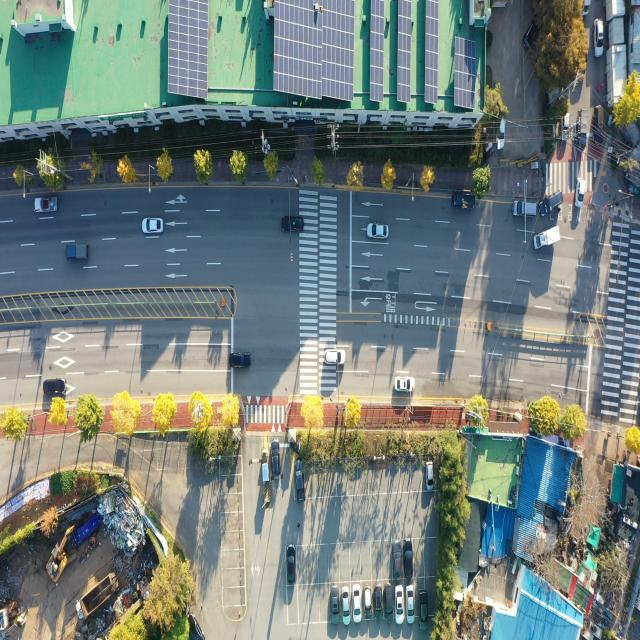car: (541, 194, 566, 219), (513, 198, 538, 220), (523, 18, 538, 50), (592, 105, 604, 143), (593, 16, 604, 56), (230, 351, 252, 370), (281, 216, 304, 234), (496, 113, 507, 150), (45, 377, 67, 394), (392, 540, 402, 577), (404, 538, 413, 578), (324, 349, 345, 366), (294, 464, 303, 502), (330, 587, 339, 625), (574, 176, 585, 207), (419, 589, 428, 626), (142, 218, 162, 234), (395, 584, 403, 624), (287, 546, 295, 584), (367, 223, 387, 238), (375, 585, 384, 618), (343, 587, 351, 624), (406, 588, 414, 624), (385, 585, 393, 621), (272, 442, 281, 474), (394, 378, 414, 392), (353, 586, 361, 621), (562, 113, 570, 143), (364, 585, 371, 618), (427, 462, 433, 491)
medium_truck: (76, 572, 119, 624)
small_truck: (536, 228, 562, 252), (578, 108, 590, 149), (33, 197, 57, 215), (452, 194, 476, 212), (67, 243, 90, 260), (584, 0, 591, 17)
